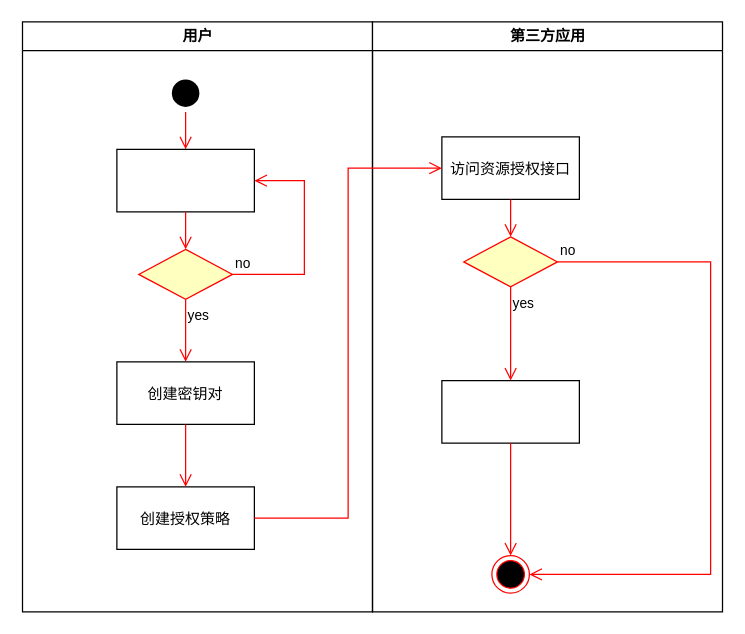
The diagram is 745 pixels wide and 634 high, and some of its shapes have lost their labels. Each missing label, with the centre of its shape:
"注册并登录" goes at point 185,180.
"访问资源" goes at point 510,411.
